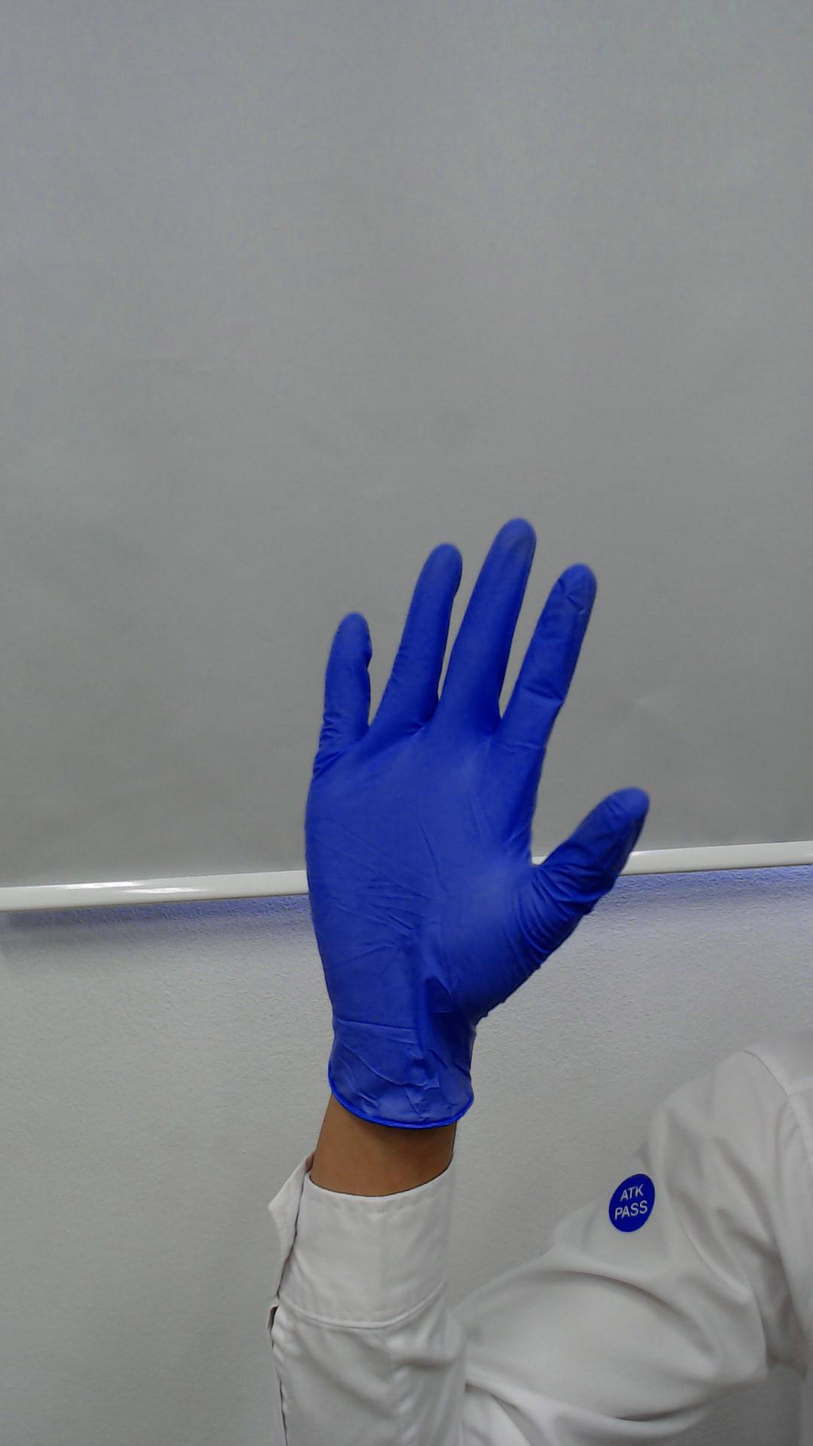gloves: (302, 488, 691, 999)
